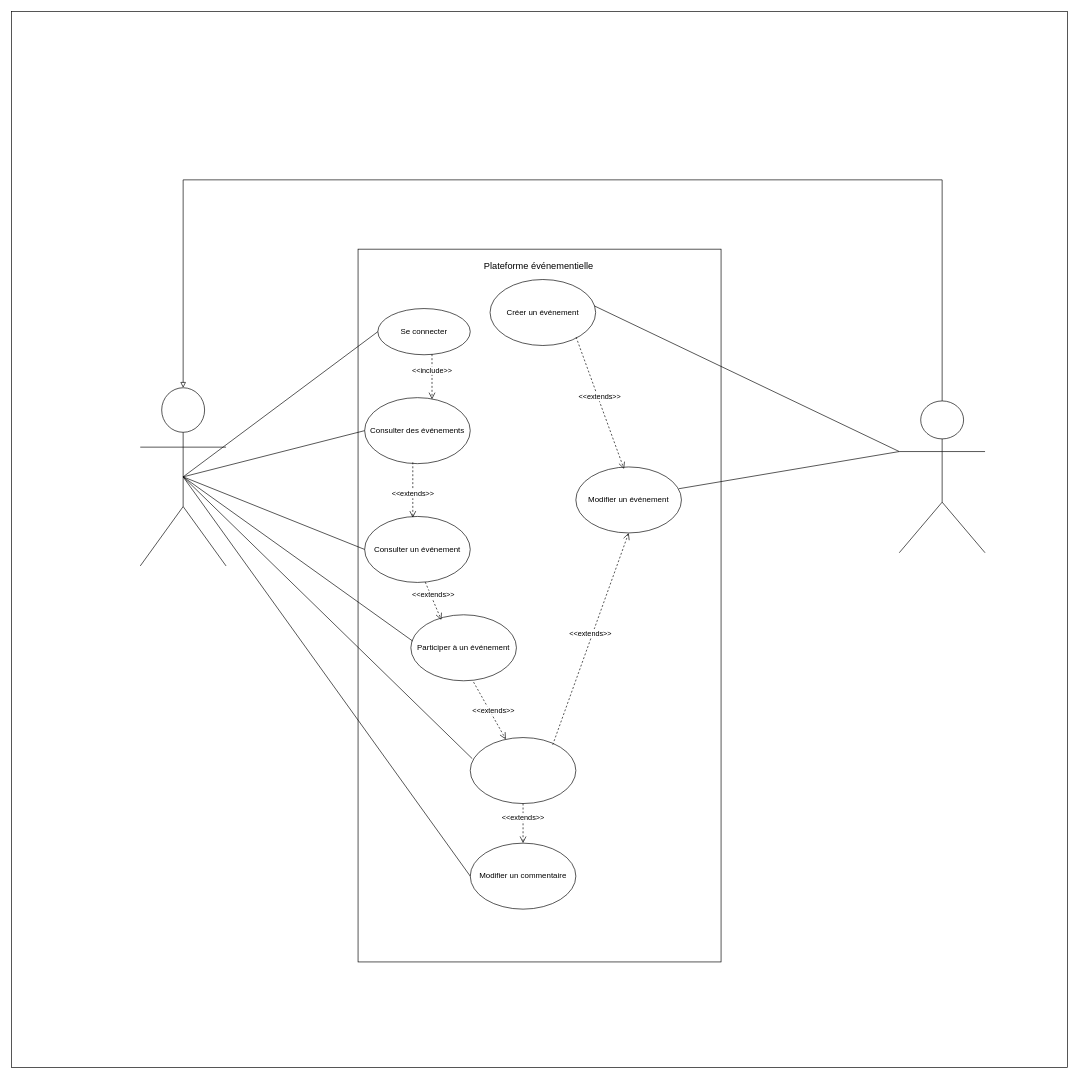
This 1079x1079 diagram has some shape labels left out. The box of each missing label's shape, as (x1, y1, x2, y2) in pixels:
Administrateur: (899, 400, 985, 553)
Ajouter un commentaire: (470, 737, 576, 804)
Collaborateur: (140, 387, 226, 566)
